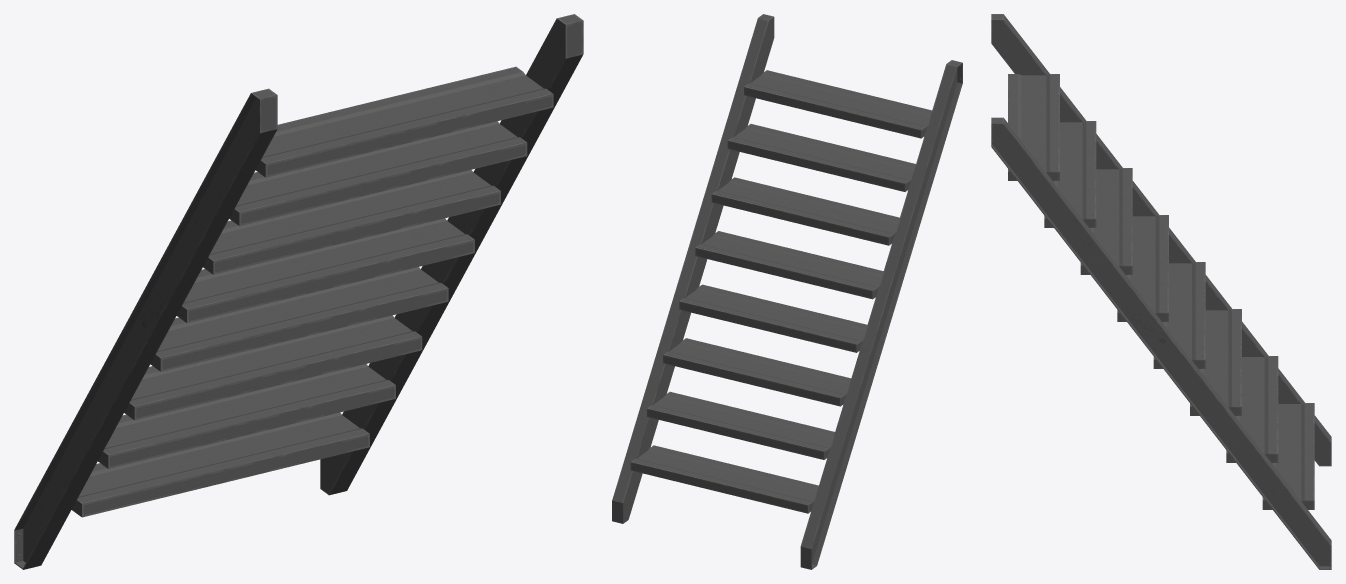
The model's file is SM05_Architecture_MezzanineFloor_01_Stairs.fbx.
3 views of the same model, side by side, from view 1: azimuth 30°, elevation 25°; view 2: azimuth 150°, elevation 25°; view 3: azimuth 270°, elevation 25° (orthographic). The views are drawn at different scales.
Parts seen in each view (by area): view 1: SM05_Architecture_MezzanineFloor_01_Stairs; view 2: SM05_Architecture_MezzanineFloor_01_Stairs; view 3: SM05_Architecture_MezzanineFloor_01_Stairs.
Boxes of the visible parts, <box> form: SM05_Architecture_MezzanineFloor_01_Stairs: <box>14,14,583,569</box>; SM05_Architecture_MezzanineFloor_01_Stairs: <box>612,14,962,569</box>; SM05_Architecture_MezzanineFloor_01_Stairs: <box>991,14,1331,569</box>.
Bounding box in the file's own units: 1 × 1.9 × 1.31.
